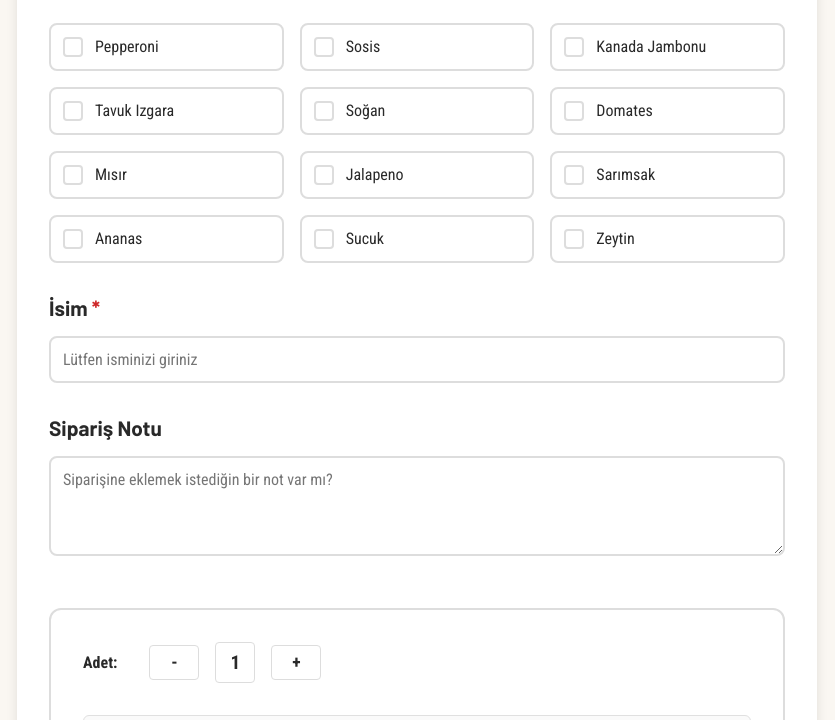
Test: UI/UX Tests › Form User Experience › should show real-time validation feedback
(page scrolled)
In the field named "name": (417, 360) [49,336,785,383], type "Te"
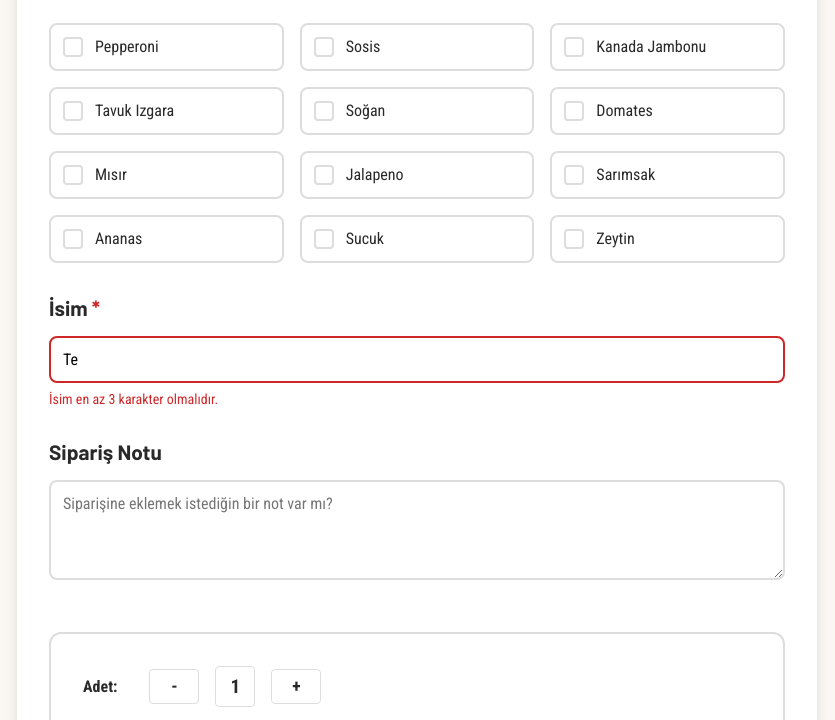
Check: the text "İsim en az 3 karakter olmalıdır." is shown, box [49,391,218,407]
Replace the text in the field named "name" with "Valid Name": (417, 360) [49,336,785,383]
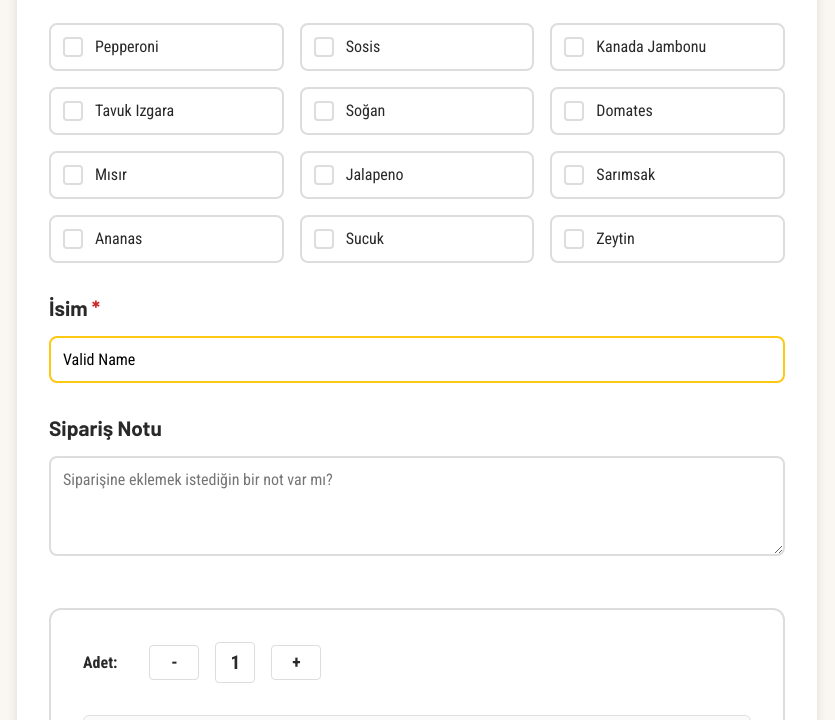
Check: the text with class "error-message" no longer shows "İsim en az 3 karakter"
